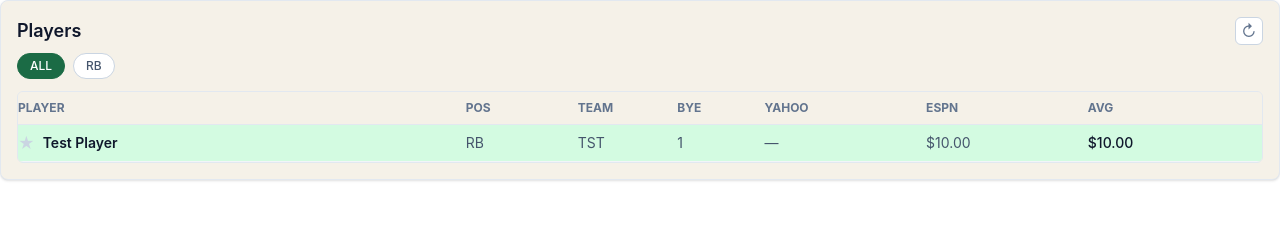
Test: PlayerList rejection handling › clears the rejection message once a draft succeeds
The image size is (1280, 242).
Click the button with aria-label "Draft Test Player".
click(80, 143)  # box [43,133,118,153]
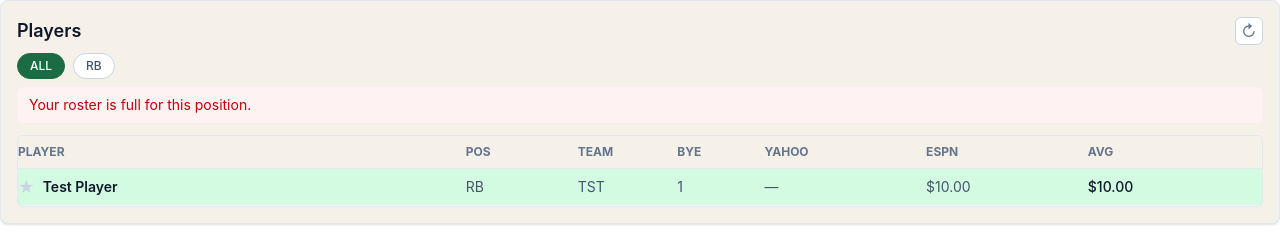
Now the message "Your roster is full for this position." is shown, box [17,87,1263,123]
Click the button with aria-label "Draft Test Player".
click(80, 187)  # box [43,177,118,197]
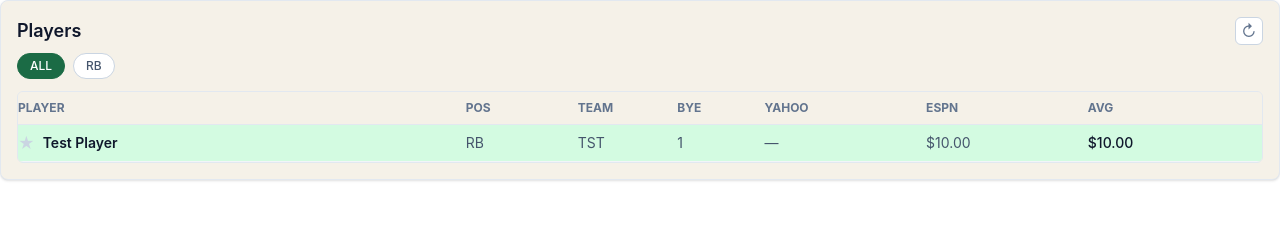
Now the message "Your roster is full for this position." is gone
